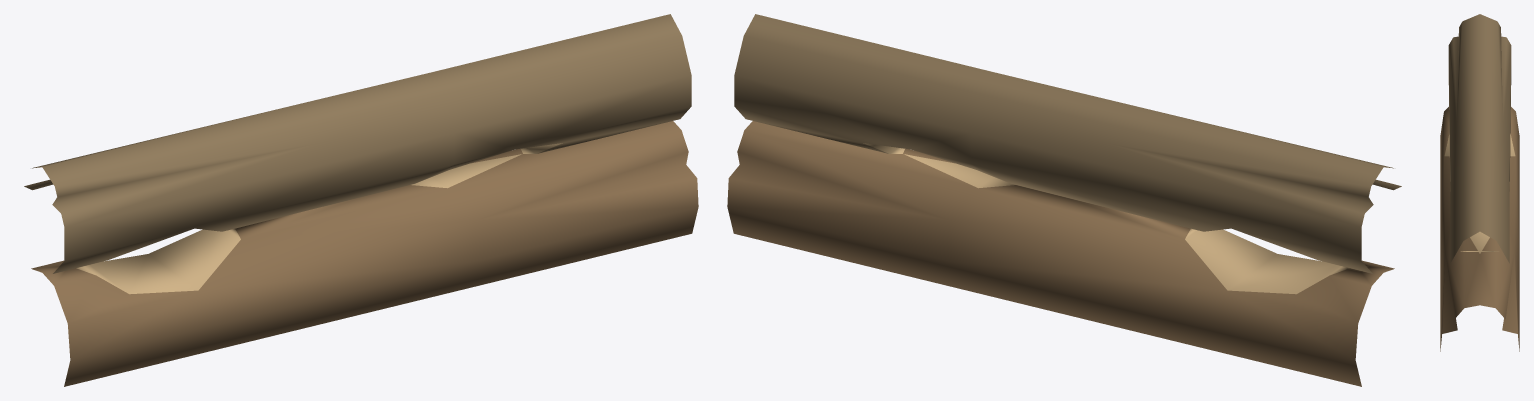
Rendered from rpgpp_av_wall_03_3x1_a.gltf.
3 views of the same model, side by side, from view 1: azimuth 30°, elevation 25°; view 2: azimuth 150°, elevation 25°; view 3: azimuth 270°, elevation 25° (orthographic). The views are drawn at different scales.
Parts seen in each view (by area): view 1: rpgpp_av_wall_03_3x1_a; view 2: rpgpp_av_wall_03_3x1_a; view 3: rpgpp_av_wall_03_3x1_a.
Part boxes in pixels (box(x1,y1,x2,y2)): rpgpp_av_wall_03_3x1_a: box(24, 14, 698, 386); rpgpp_av_wall_03_3x1_a: box(727, 14, 1401, 386); rpgpp_av_wall_03_3x1_a: box(1440, 14, 1519, 351).
Bounding box in the file's own units: 0.03 × 0.01 × 0.00463.
Materials: 1 (1 with a texture image).
